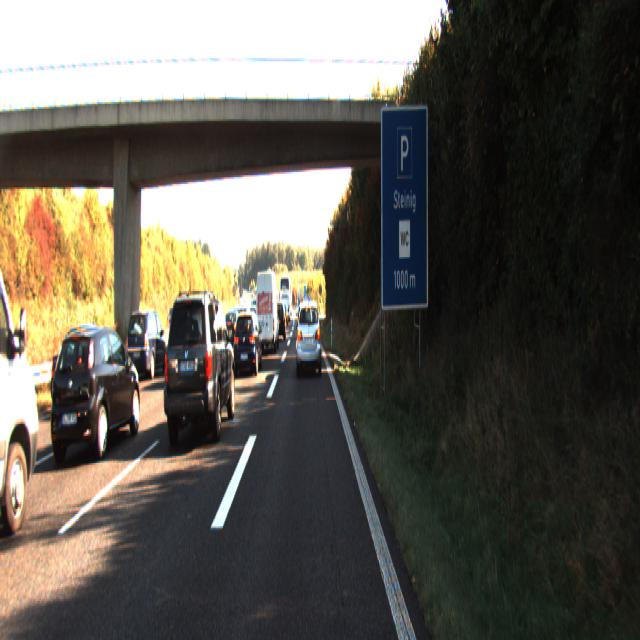Car: (0, 225, 48, 544), (51, 321, 142, 465), (163, 291, 236, 451), (125, 309, 169, 380), (174, 309, 215, 382), (254, 268, 280, 352), (232, 308, 262, 376), (295, 297, 321, 375), (271, 301, 286, 342)
